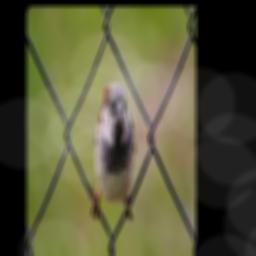Sparrow: (94, 82, 135, 206)
